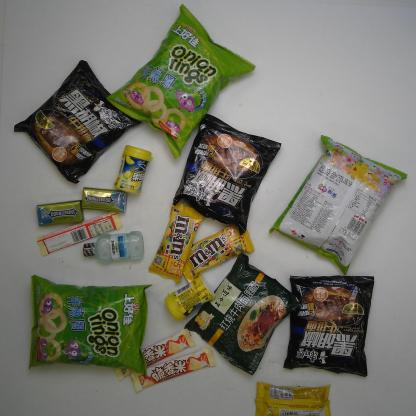Chocolate: (148, 203, 205, 284), (112, 328, 197, 382), (182, 223, 256, 284), (35, 210, 124, 257), (130, 346, 218, 393), (254, 381, 331, 416)
Gum: (164, 274, 217, 322), (113, 144, 154, 196), (36, 199, 84, 227), (80, 187, 128, 213)
Instant Noodles: (13, 59, 144, 184), (171, 113, 282, 236), (183, 252, 293, 376), (282, 274, 375, 380)
Personal Hygiene: (82, 231, 145, 264)
Puffed Food: (106, 3, 257, 159), (267, 133, 408, 276), (29, 274, 153, 378)
